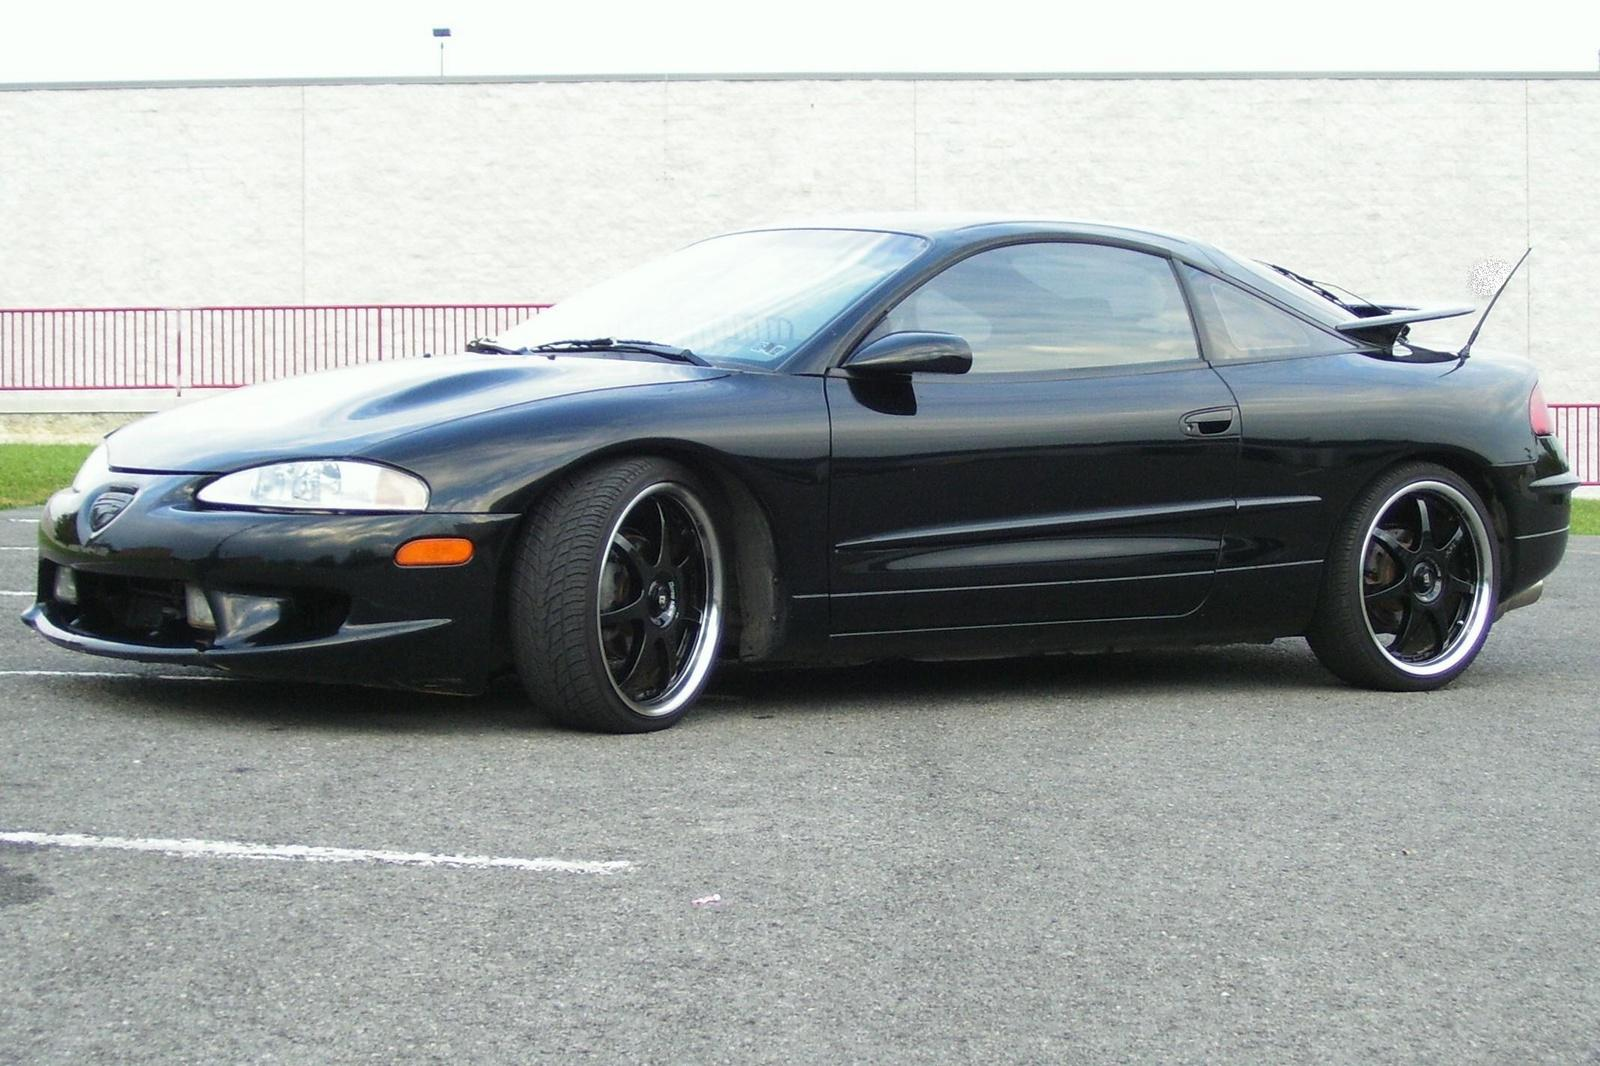Car: (12, 127, 1600, 755)
